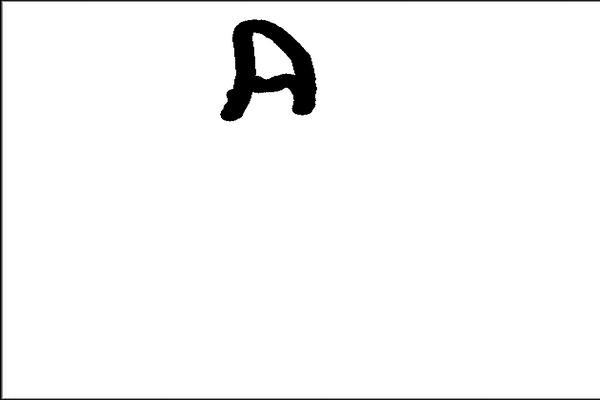A: (211, 14, 320, 128)
